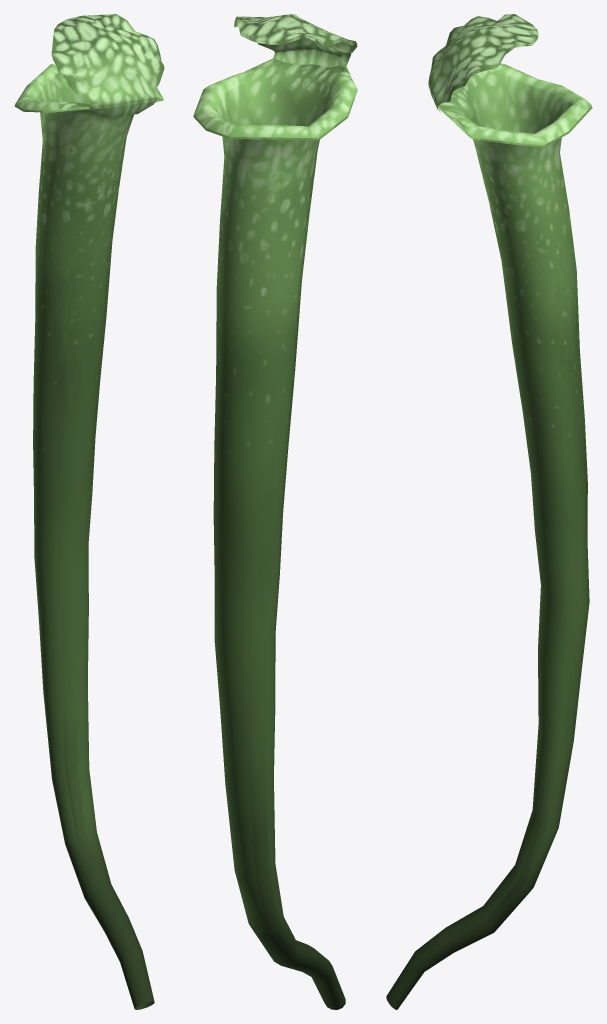
File: Trumpet3.fbx
The picture shows the model from 3 angles, left to right: view 1: azimuth 30°, elevation 25°; view 2: azimuth 150°, elevation 25°; view 3: azimuth 270°, elevation 25°; orthographic projection. The views are drawn at different scales.
Visible parts, largest first — view 1: TrumpetPlant3; view 2: TrumpetPlant3; view 3: TrumpetPlant3.
Part boxes in pixels (x1=…): TrumpetPlant3: x1=14, y1=14, x2=164, y2=1009; TrumpetPlant3: x1=193, y1=14, x2=357, y2=1009; TrumpetPlant3: x1=386, y1=14, x2=592, y2=1009.
Bounding box in the file's own units: 11.47 × 78.23 × 14.92.
